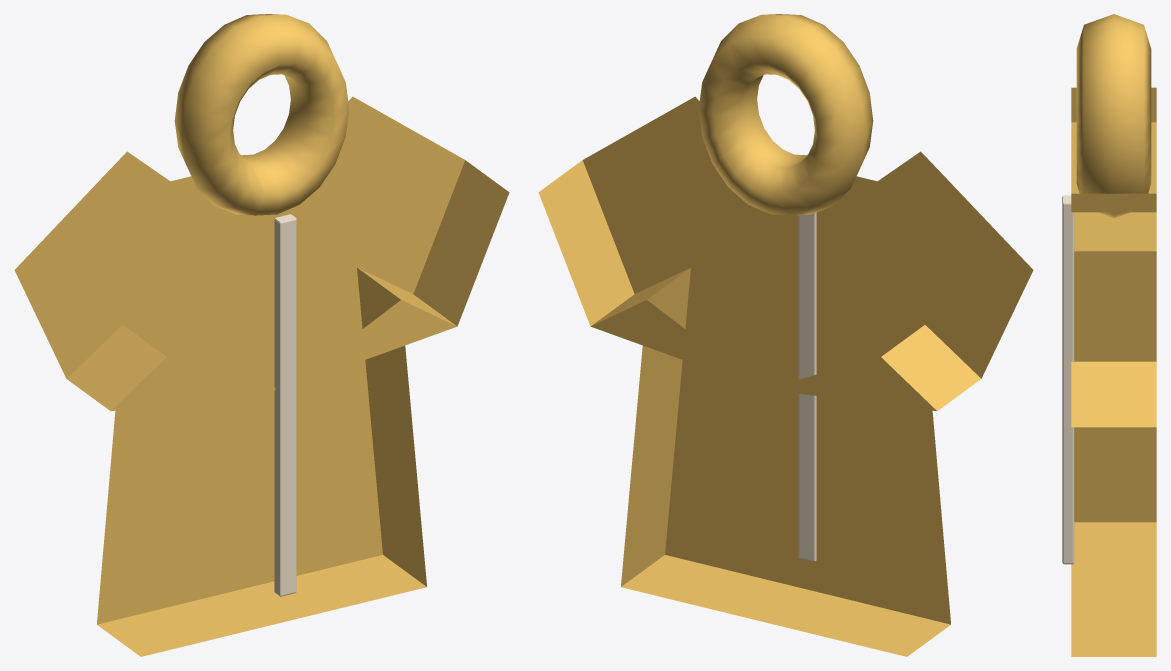
The model's file is raincoat.glb.
3 views of the same model, side by side, from view 1: azimuth 30°, elevation 25°; view 2: azimuth 150°, elevation 25°; view 3: azimuth 270°, elevation 25° (orthographic). The views are drawn at different scales.
Parts seen in each view (by area): view 1: model; view 2: model; view 3: model.
Part boxes in pixels (left/top/right/bottom): model: left=14, top=14, right=509, bottom=656; model: left=538, top=14, right=1033, bottom=656; model: left=1062, top=14, right=1156, bottom=656.
Size of the model in its own units: 0.8 by 1 by 0.15.
